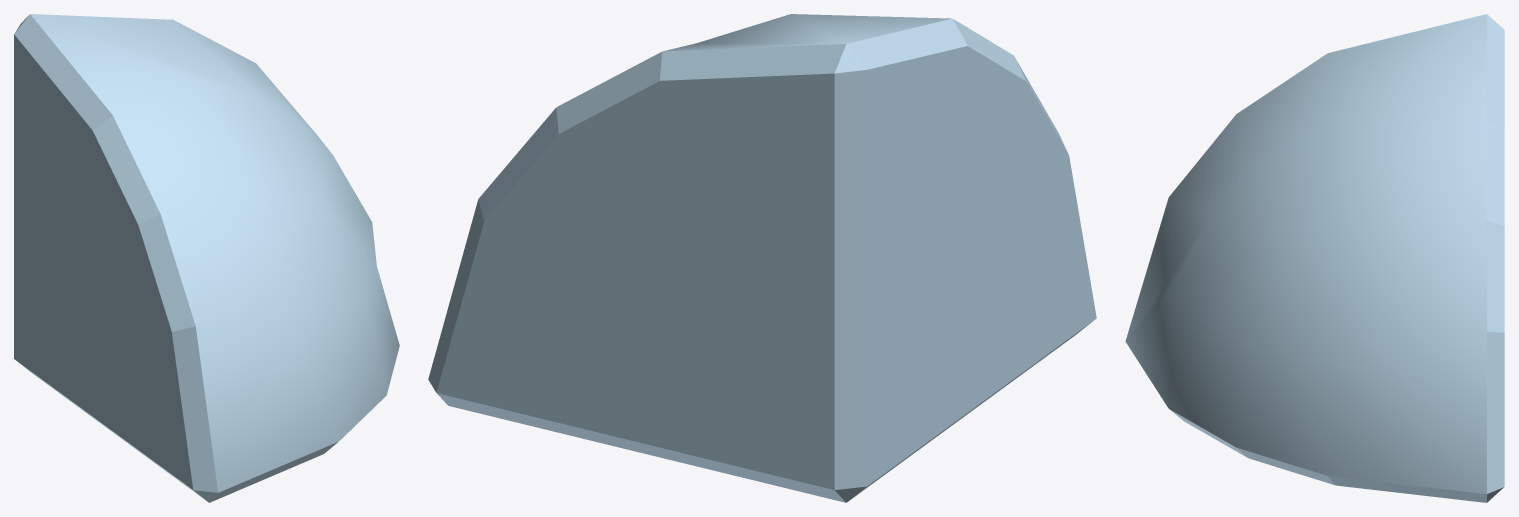
File: R4B_RoundCorner_LOD1.glb
3 views of the same model, side by side, from view 1: azimuth 30°, elevation 25°; view 2: azimuth 150°, elevation 25°; view 3: azimuth 270°, elevation 25° (orthographic). The views are drawn at different scales.
Parts seen in each view (by area): view 1: R4B_RoundCorner_LOD1; view 2: R4B_RoundCorner_LOD1; view 3: R4B_RoundCorner_LOD1.
Part boxes in pixels (bbox=[...]): R4B_RoundCorner_LOD1: bbox=[14, 14, 399, 502]; R4B_RoundCorner_LOD1: bbox=[428, 14, 1096, 502]; R4B_RoundCorner_LOD1: bbox=[1125, 14, 1504, 502].
Size of the model in its own units: 0.5139 by 0.5139 by 0.5139.
